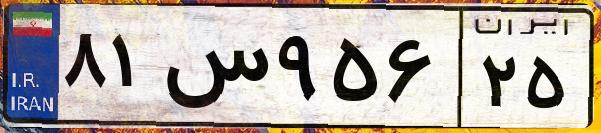1: (110, 28, 158, 98)
2: (475, 38, 525, 113)
5: (330, 28, 385, 110), (525, 38, 570, 115)
6: (385, 28, 445, 110)
8: (57, 26, 110, 100)
9: (270, 28, 330, 110)
س: (158, 20, 270, 120)
